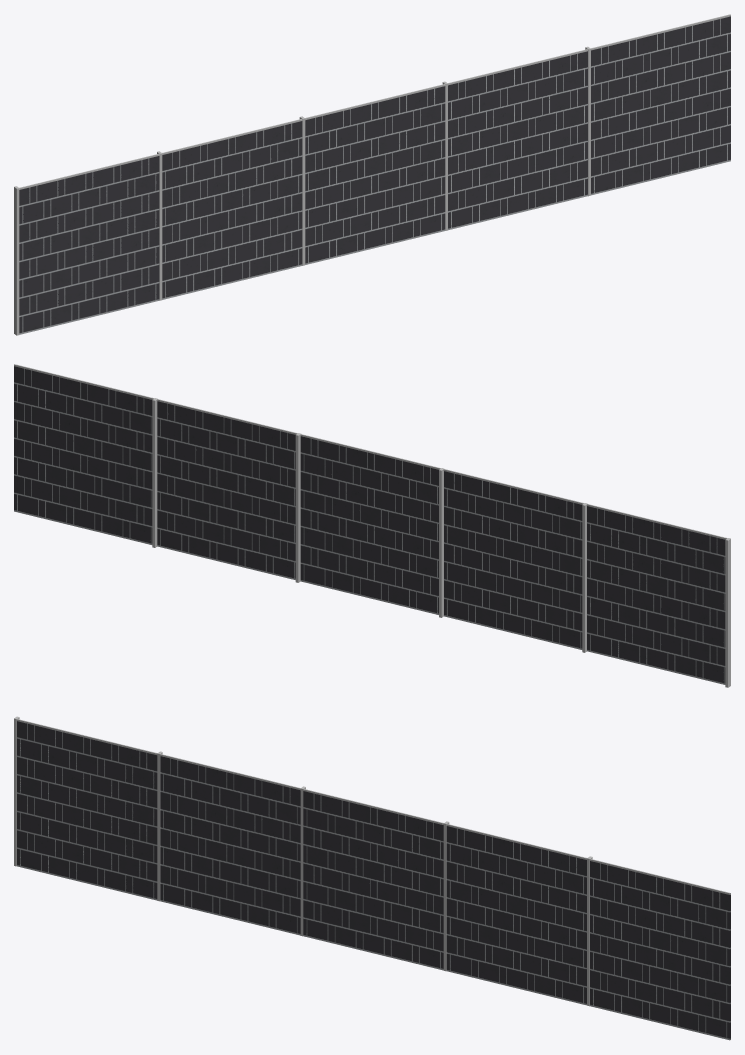
The model's file is metalzaun_01_module.fbx.
The picture shows the model from 3 angles, top to bottom: view 1: azimuth 30°, elevation 25°; view 2: azimuth 150°, elevation 25°; view 3: azimuth 330°, elevation 25°; orthographic projection.
Parts seen in each view (by area): view 1: metalzaun_01a_1er, metalzaun_01a_3er, metalzaun_01a_1er (2), metalzaun_01a_4er, metalzaun_01a_5er, metalzaun_01a_end; view 2: metalzaun_01a_1er, metalzaun_01a_4er, metalzaun_01a_3er, metalzaun_01a_5er, metalzaun_01a_1er (2), metalzaun_01a_end; view 3: metalzaun_01a_4er, metalzaun_01a_3er, metalzaun_01a_5er, metalzaun_01a_1er (2), metalzaun_01a_1er, metalzaun_01a_end.
Part boxes in pixels (x1=…): metalzaun_01a_1er: x1=14, y1=153, x2=159, y2=335; metalzaun_01a_3er: x1=299, y1=84, x2=445, y2=265; metalzaun_01a_1er (2): x1=157, y1=119, x2=302, y2=300; metalzaun_01a_4er: x1=442, y1=49, x2=587, y2=230; metalzaun_01a_5er: x1=585, y1=14, x2=730, y2=196; metalzaun_01a_end: x1=19, y1=152, x2=162, y2=334; metalzaun_01a_1er: x1=587, y1=504, x2=730, y2=687; metalzaun_01a_4er: x1=157, y1=399, x2=300, y2=582; metalzaun_01a_3er: x1=300, y1=434, x2=444, y2=617; metalzaun_01a_5er: x1=14, y1=364, x2=157, y2=547; metalzaun_01a_1er (2): x1=443, y1=469, x2=587, y2=652; metalzaun_01a_end: x1=582, y1=503, x2=723, y2=661; metalzaun_01a_4er: x1=443, y1=821, x2=586, y2=1005; metalzaun_01a_3er: x1=300, y1=786, x2=443, y2=970; metalzaun_01a_5er: x1=587, y1=856, x2=730, y2=1040; metalzaun_01a_1er (2): x1=157, y1=751, x2=300, y2=935; metalzaun_01a_1er: x1=14, y1=716, x2=157, y2=900; metalzaun_01a_end: x1=17, y1=721, x2=162, y2=901.
Bounding box in the file's own units: 1020 × 201 × 6.99.
